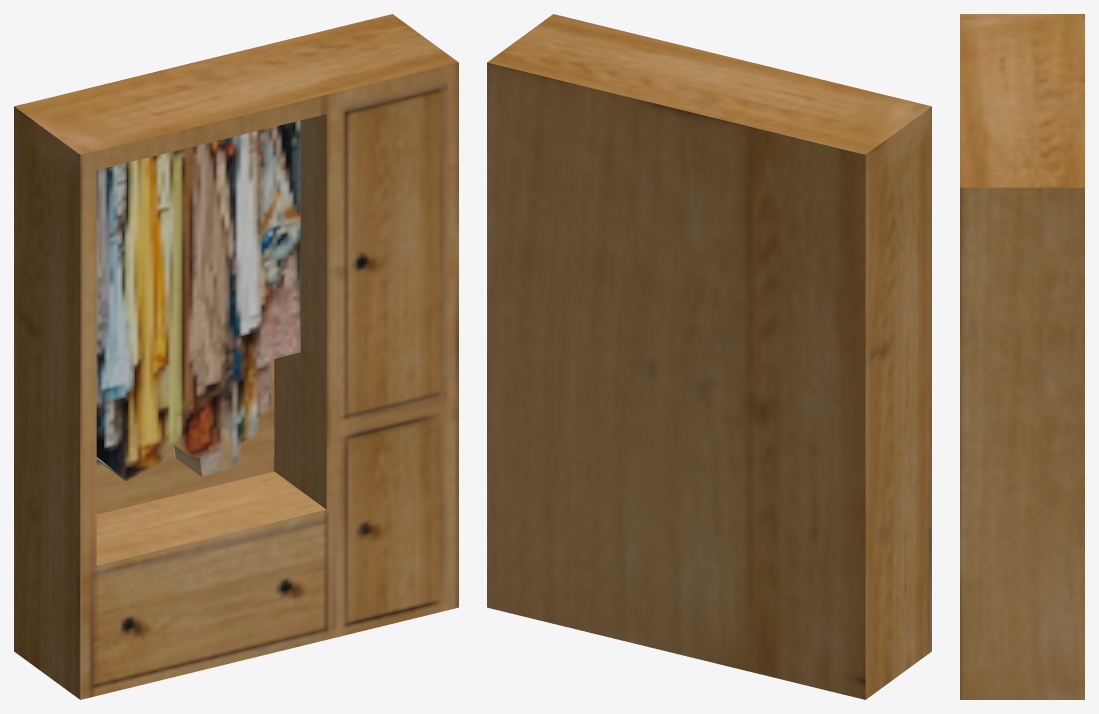
File: Wardrobe-col.glb
3 views of the same model, side by side, from view 1: azimuth 30°, elevation 25°; view 2: azimuth 150°, elevation 25°; view 3: azimuth 270°, elevation 25° (orthographic). The views are drawn at different scales.
Parts seen in each view (by area): view 1: Wardrobe-col; view 2: Wardrobe-col; view 3: Wardrobe-col.
Part boxes in pixels (x1,y1,x2,y2): Wardrobe-col: (14, 14, 458, 699); Wardrobe-col: (487, 14, 931, 699); Wardrobe-col: (960, 14, 1084, 699).
Size of the model in its own units: 1.4 by 1.92 by 0.4243.
Materials: 1 (1 with a texture image).
